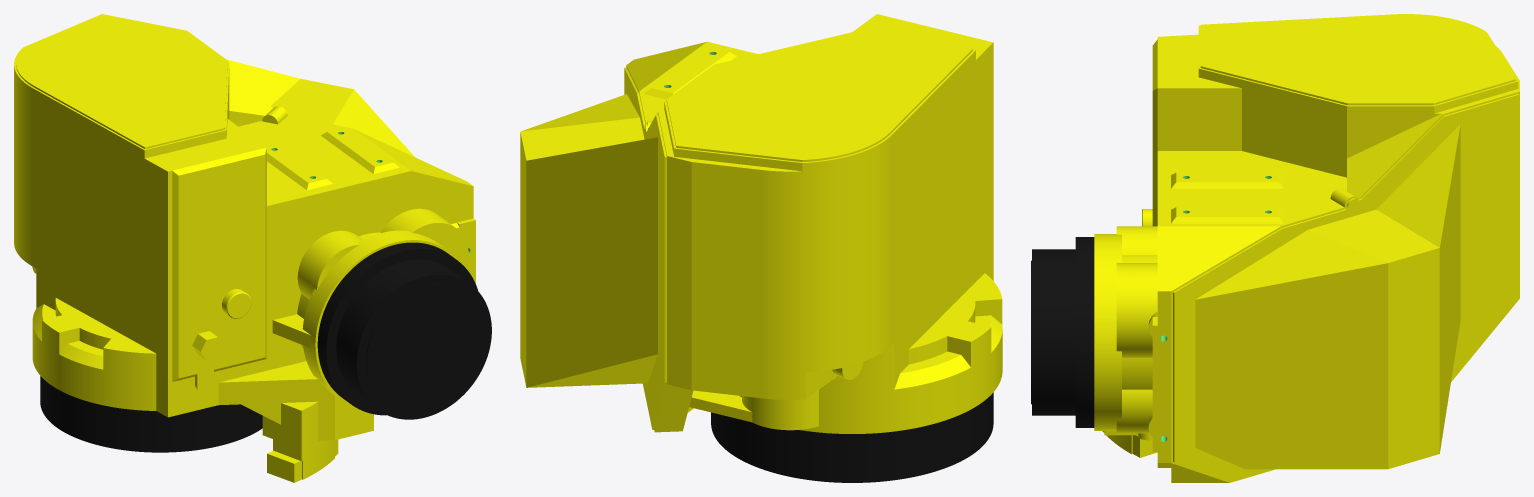
The picture shows the model from 3 angles, left to right: view 1: azimuth 30°, elevation 25°; view 2: azimuth 150°, elevation 25°; view 3: azimuth 270°, elevation 25°; orthographic projection. The views are drawn at different scales.
Parts seen in each view (by area): view 1: 45M_S401; view 2: 45M_S401; view 3: 45M_S401.
Boxes of the visible parts, bbox=[...] form: 45M_S401: bbox=[14, 14, 491, 482]; 45M_S401: bbox=[520, 14, 1002, 482]; 45M_S401: bbox=[1031, 14, 1519, 482].
Bounding box in the file's own units: 0.4335 × 0.4767 × 0.374.
